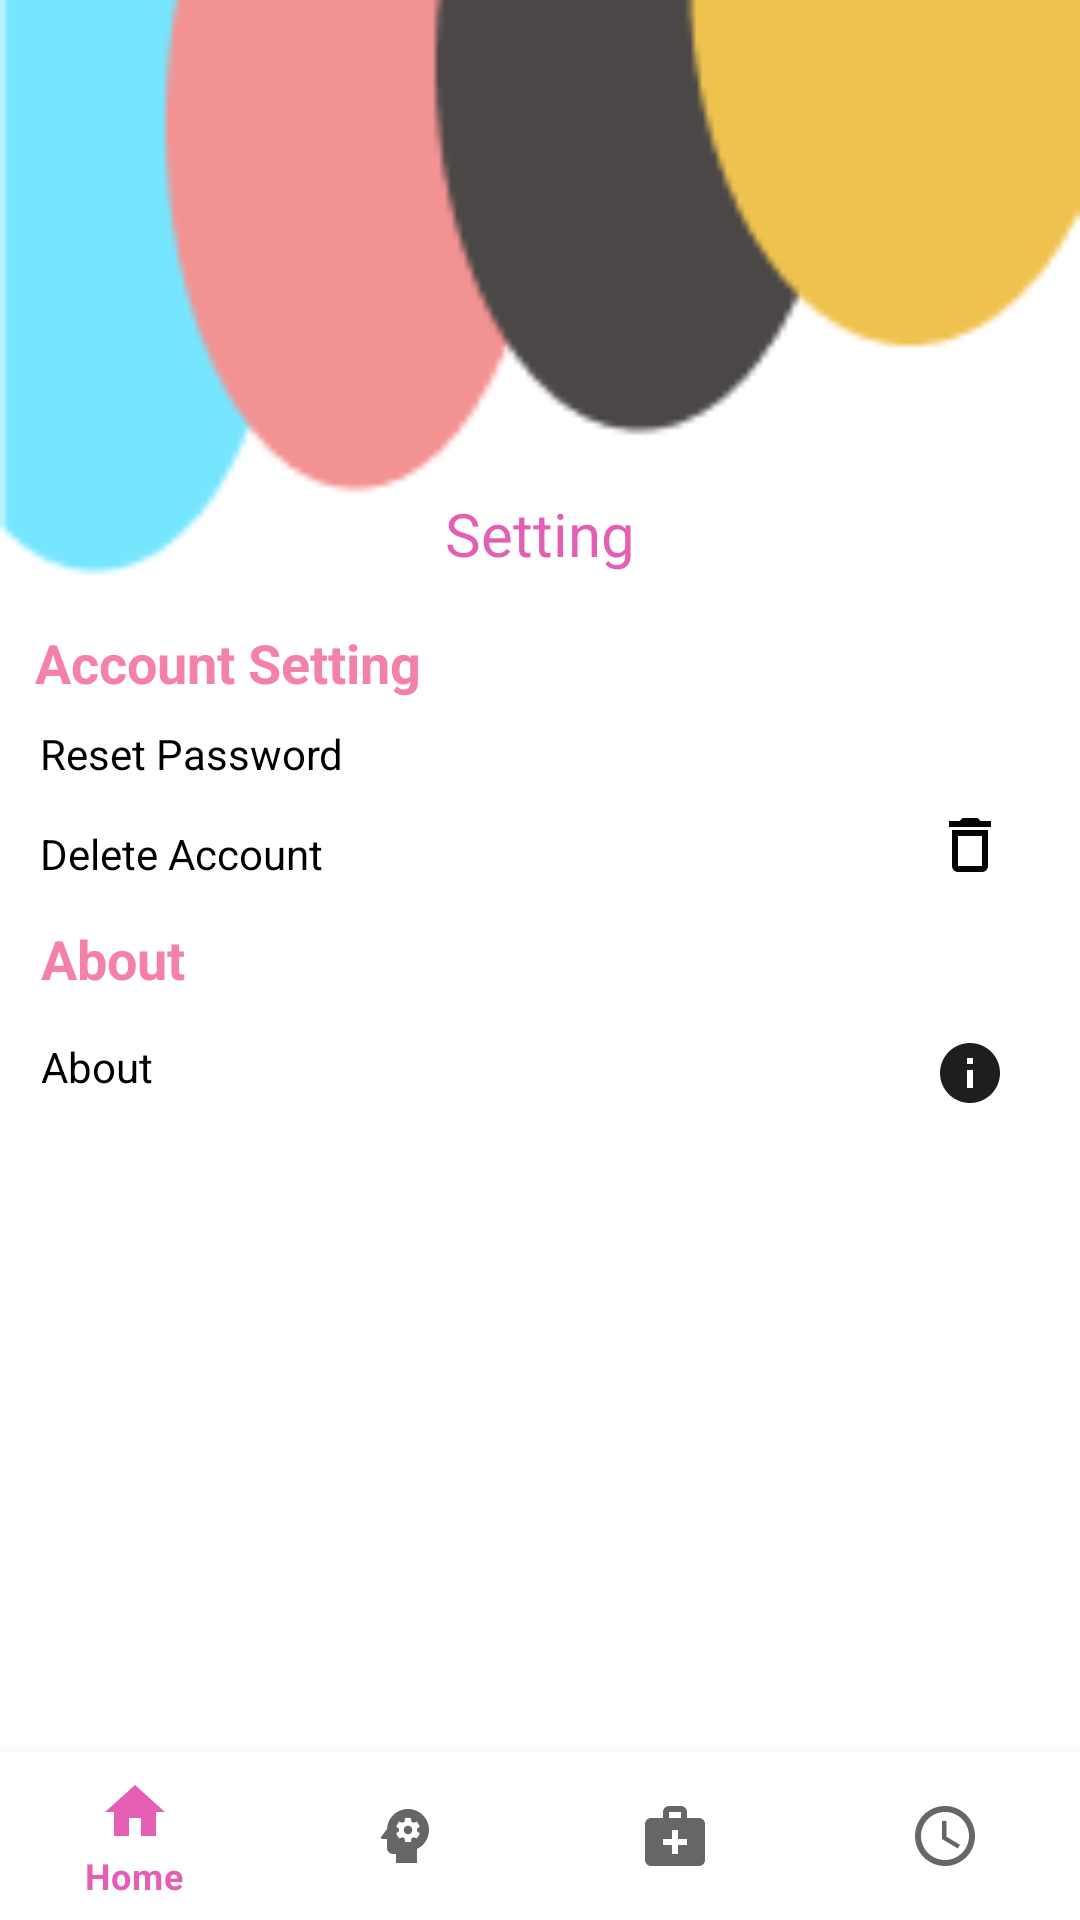

Where to tap for icons on this 1080 x 1920 app screen, as (x=x, y=y):
delete: (x=970, y=845)
info: (x=970, y=1073)
